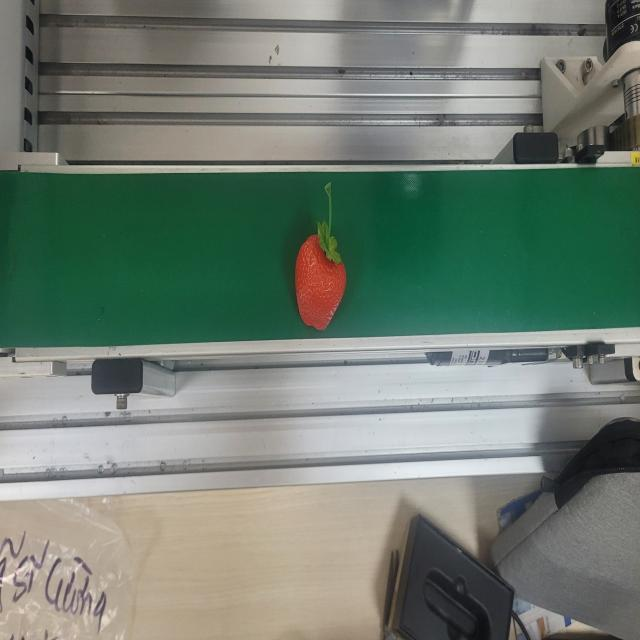Large Ripe Strawberry: (294, 180, 348, 332)
conveyor: (0, 160, 640, 356)
